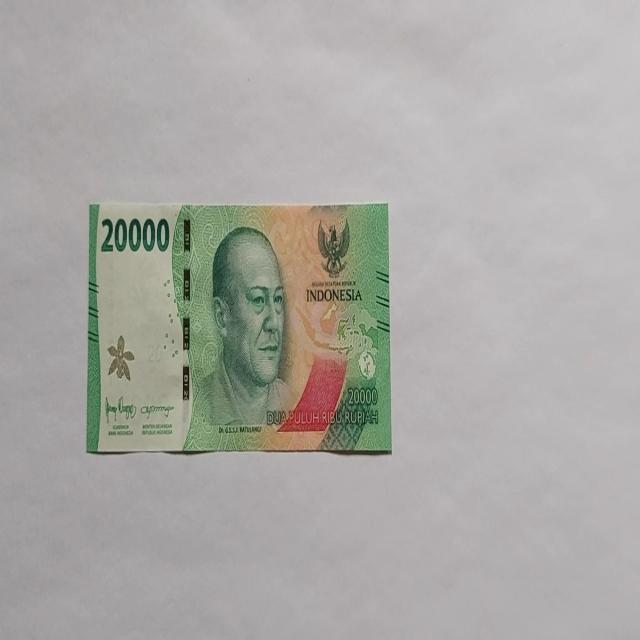dua puluh ribu rupiah: (86, 200, 391, 456), (186, 223, 300, 447)
